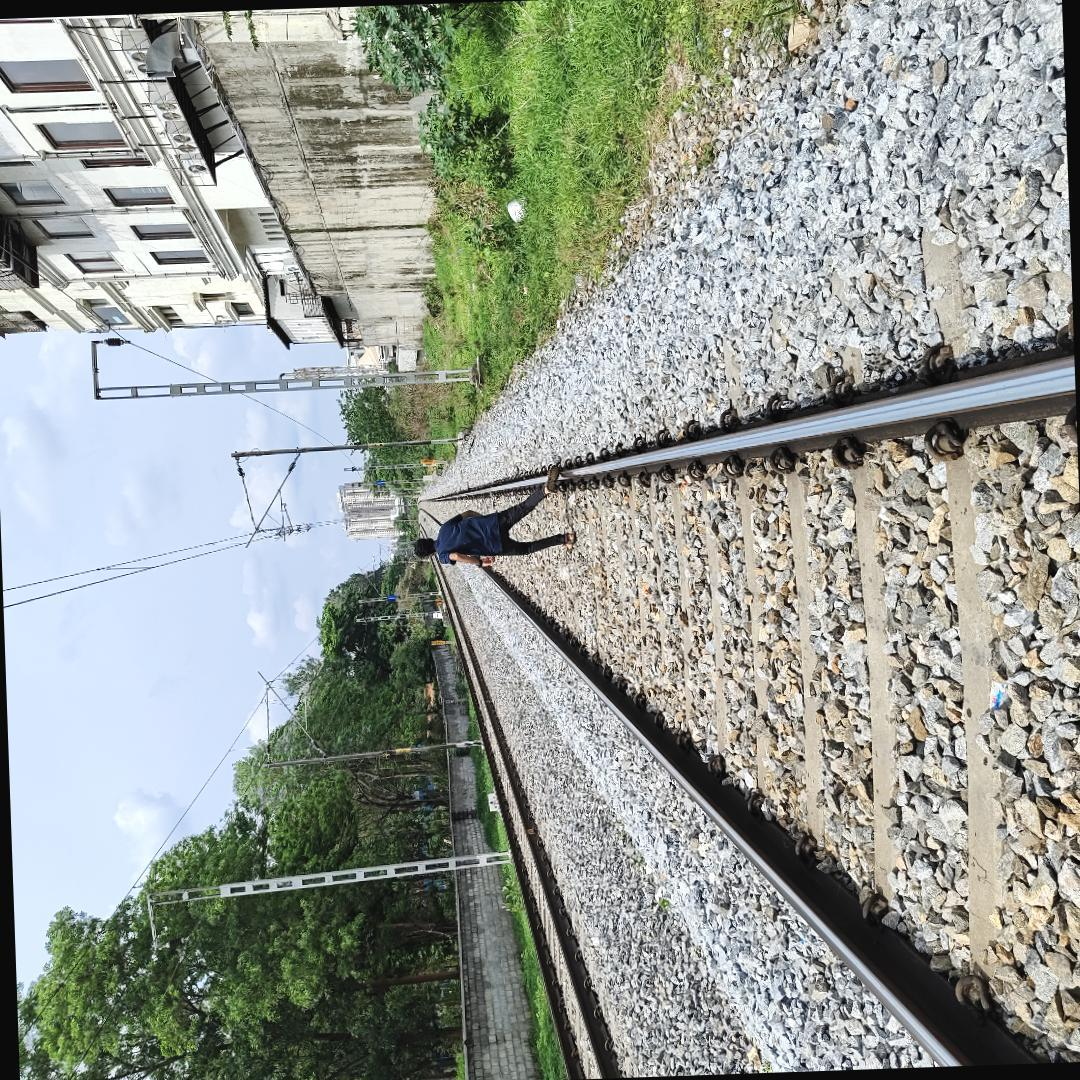standing: (411, 450, 585, 574)
track: (418, 195, 1080, 1070)
